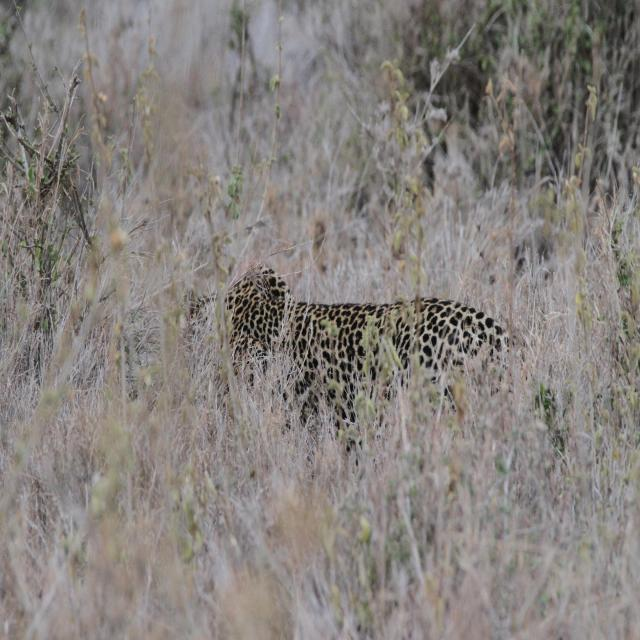Leopard: (209, 267, 560, 468)
